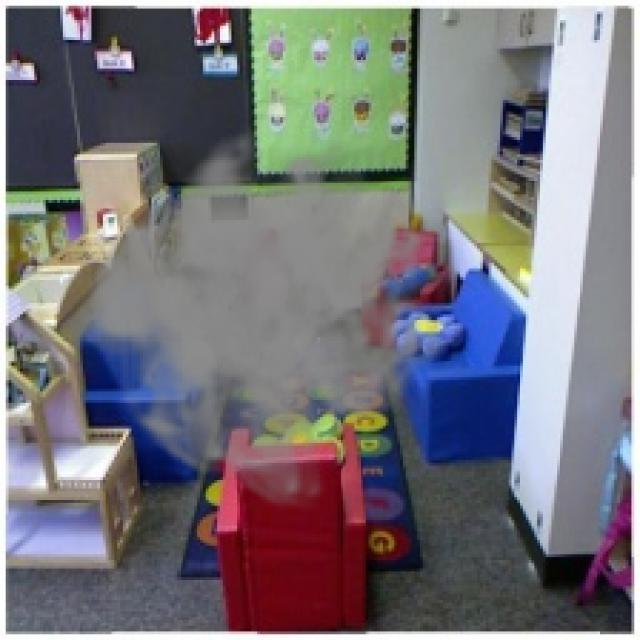smoke: (77, 114, 446, 514)
